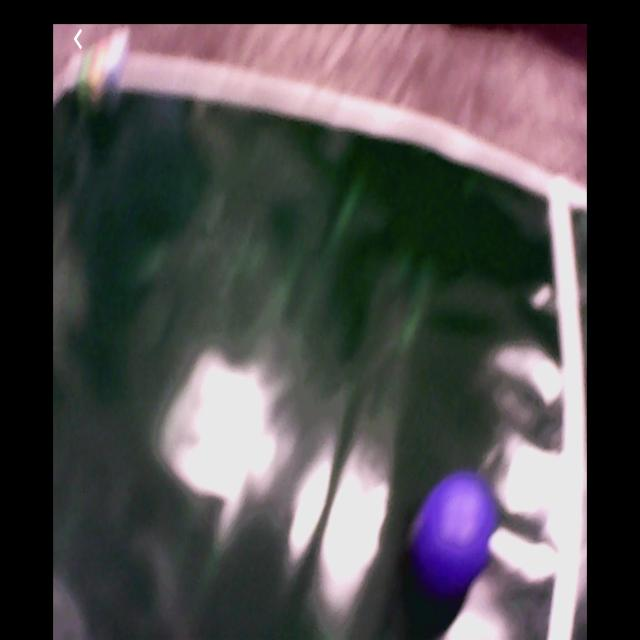ball: (416, 473, 499, 585)
